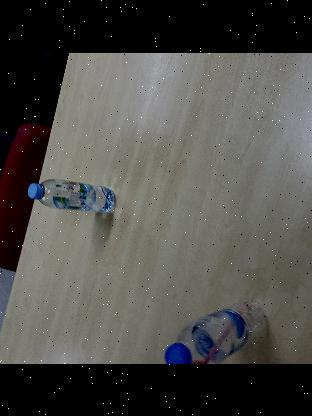Plastic Bottle: (164, 300, 268, 364), (27, 178, 117, 212)
